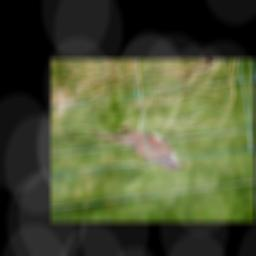Cuckoo: (88, 119, 188, 178)
